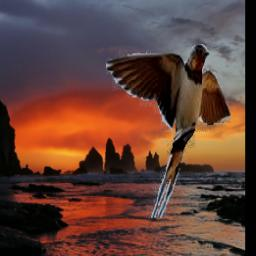Swallow: (107, 44, 231, 218)
